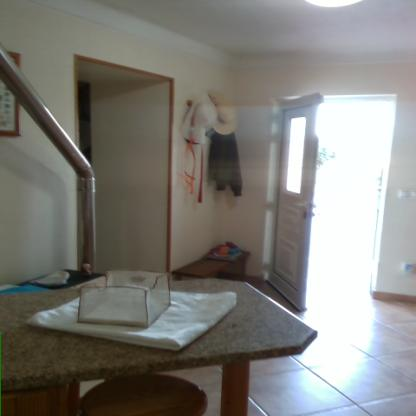closed: (76, 59, 182, 274)
semi: (270, 83, 410, 380)
